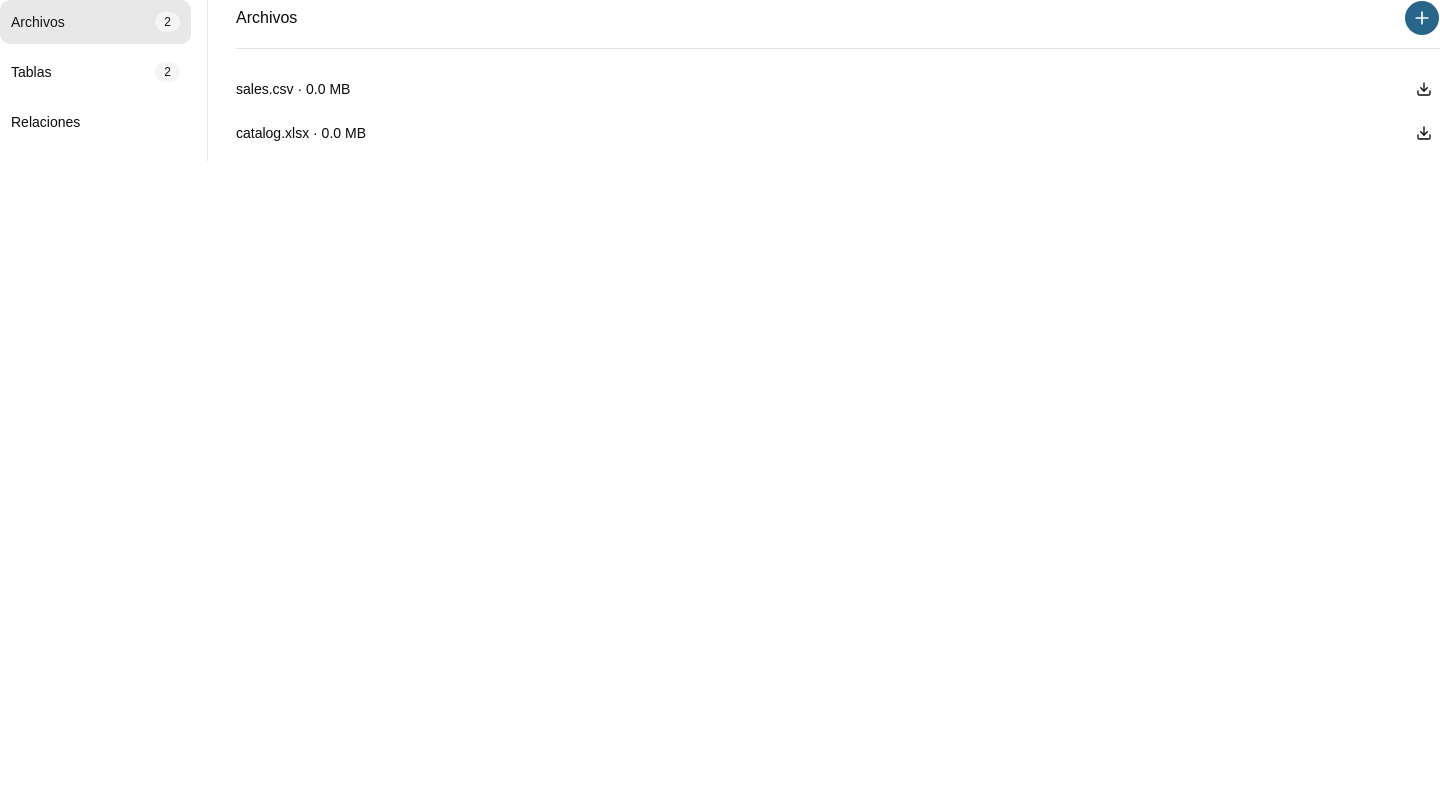
opens the clicked table with actual columns and rows without reopening the map or changing context
Click the button "Tablas 2" at [96, 72], box 0,50 -> 191,94
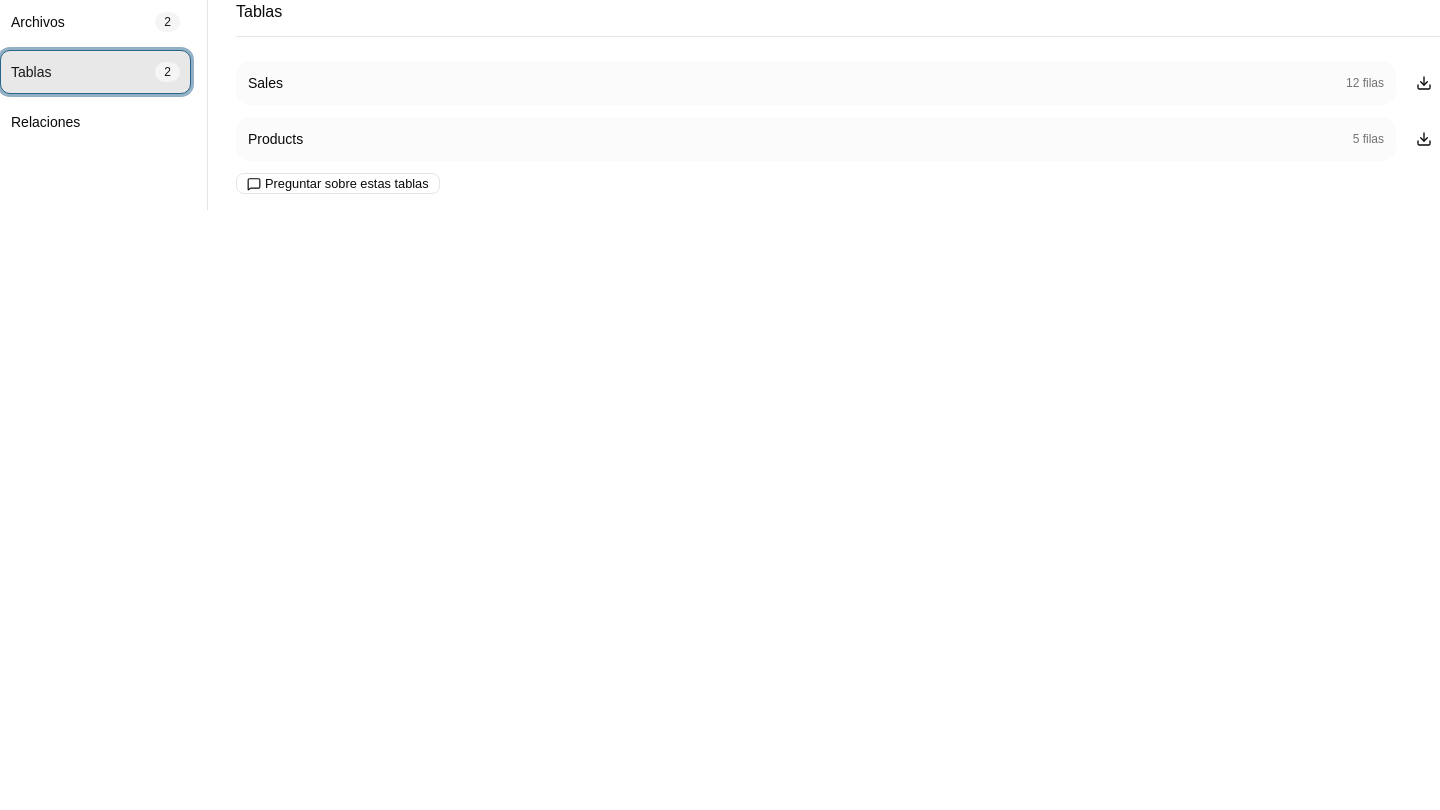
Click the button with aria-label "Ver tabla Products" at [276, 139], box 236,117 -> 1396,161
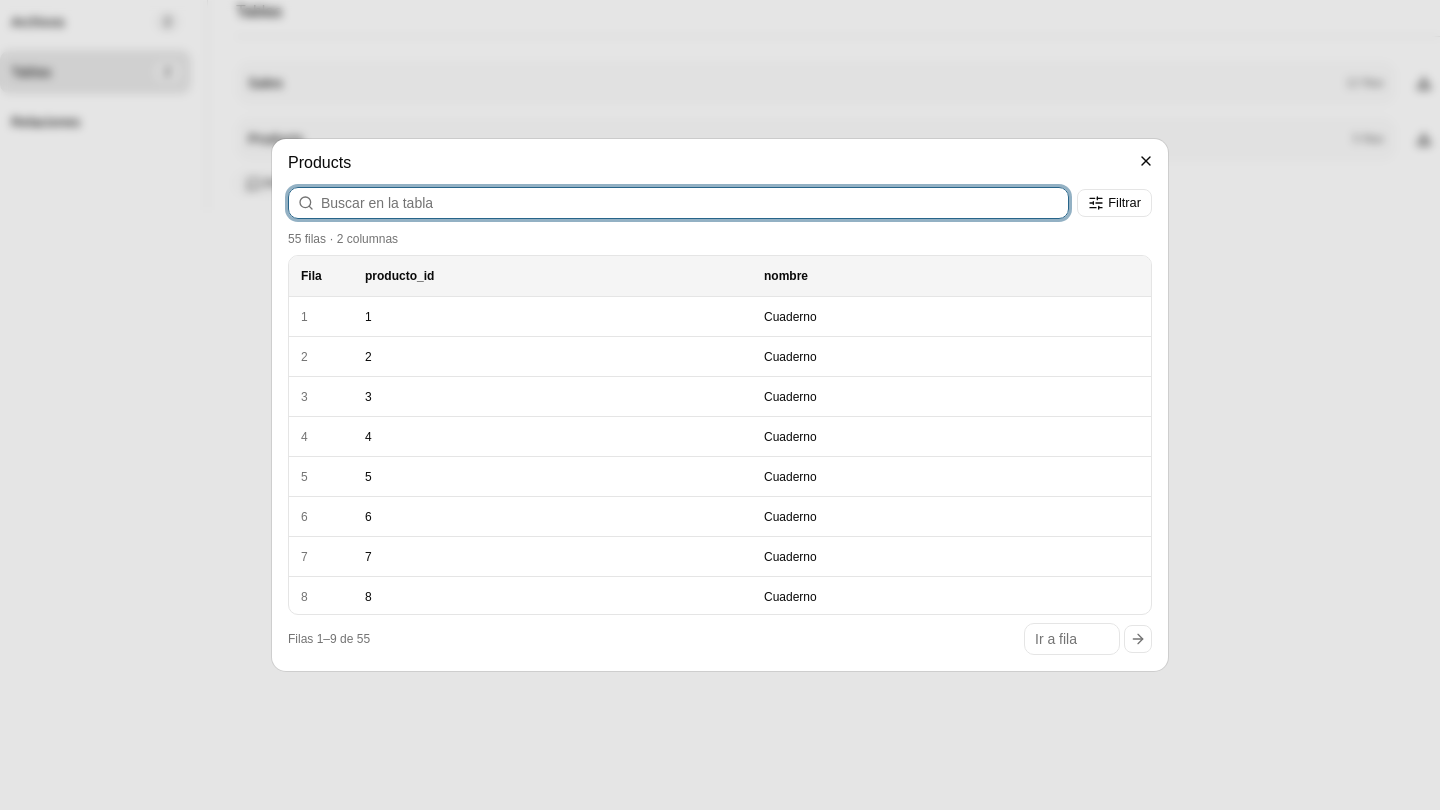
Expected: the column heading "nombre" is shown, 752,256 -> 1151,296
Expected: the 1st text "Cuaderno" is shown, 764,310 -> 817,324
Type "51" into the number field labelled "Ir a fila" at [1072, 639], box 1024,623 -> 1120,655
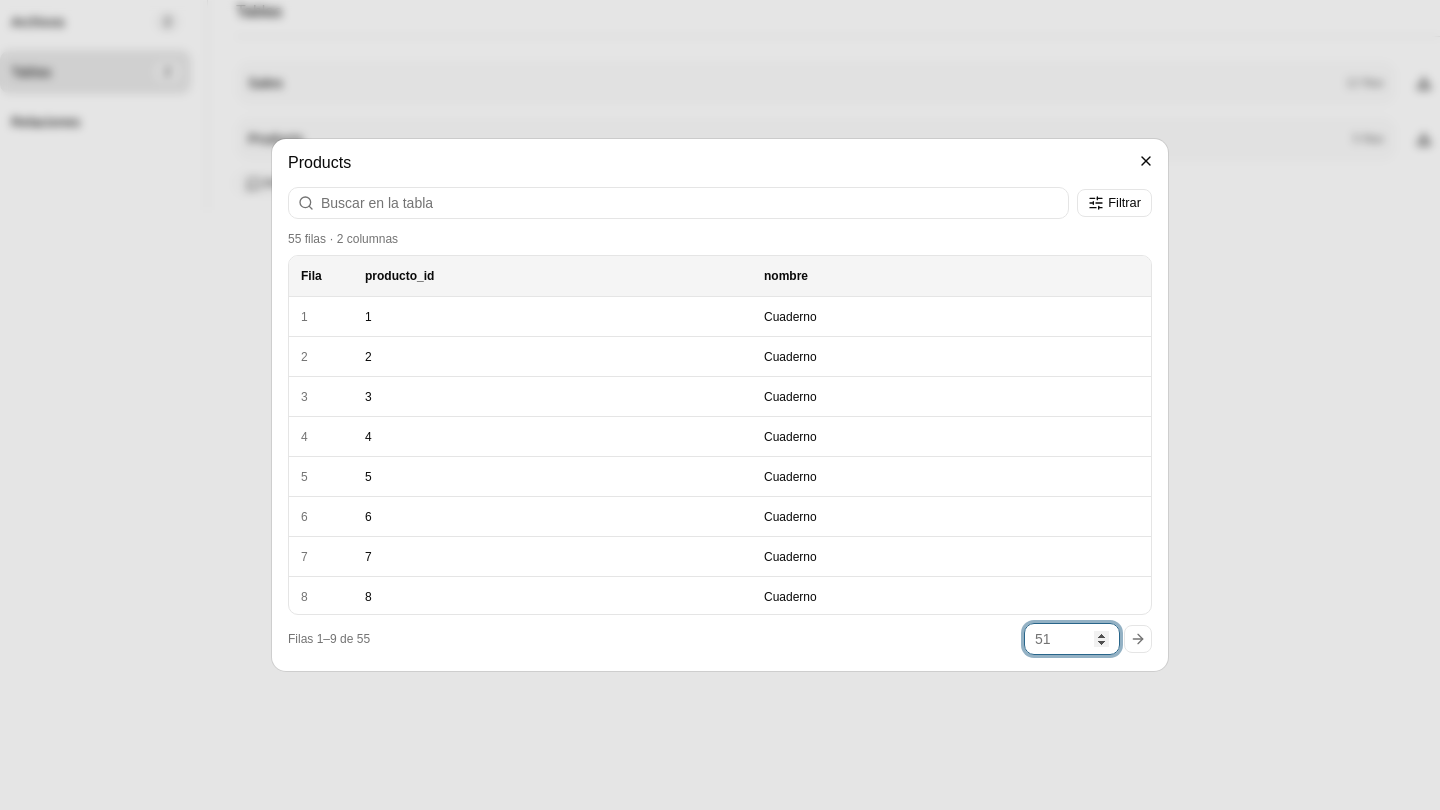
Click the button named "Ir a fila" at [1138, 639], box 1124,625 -> 1152,653
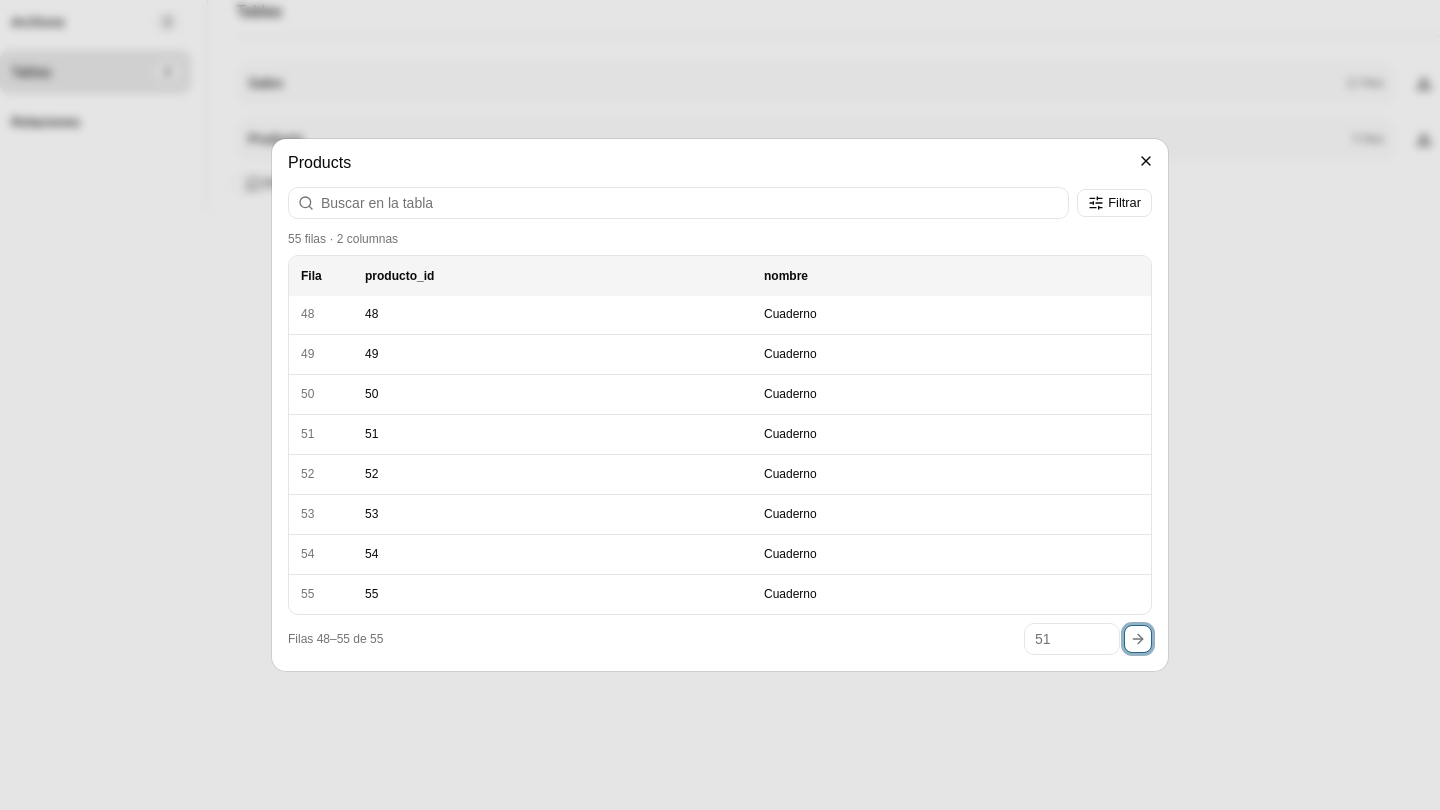
Expected: the cell "51" is shown, 353,414 -> 752,454
Press Escape
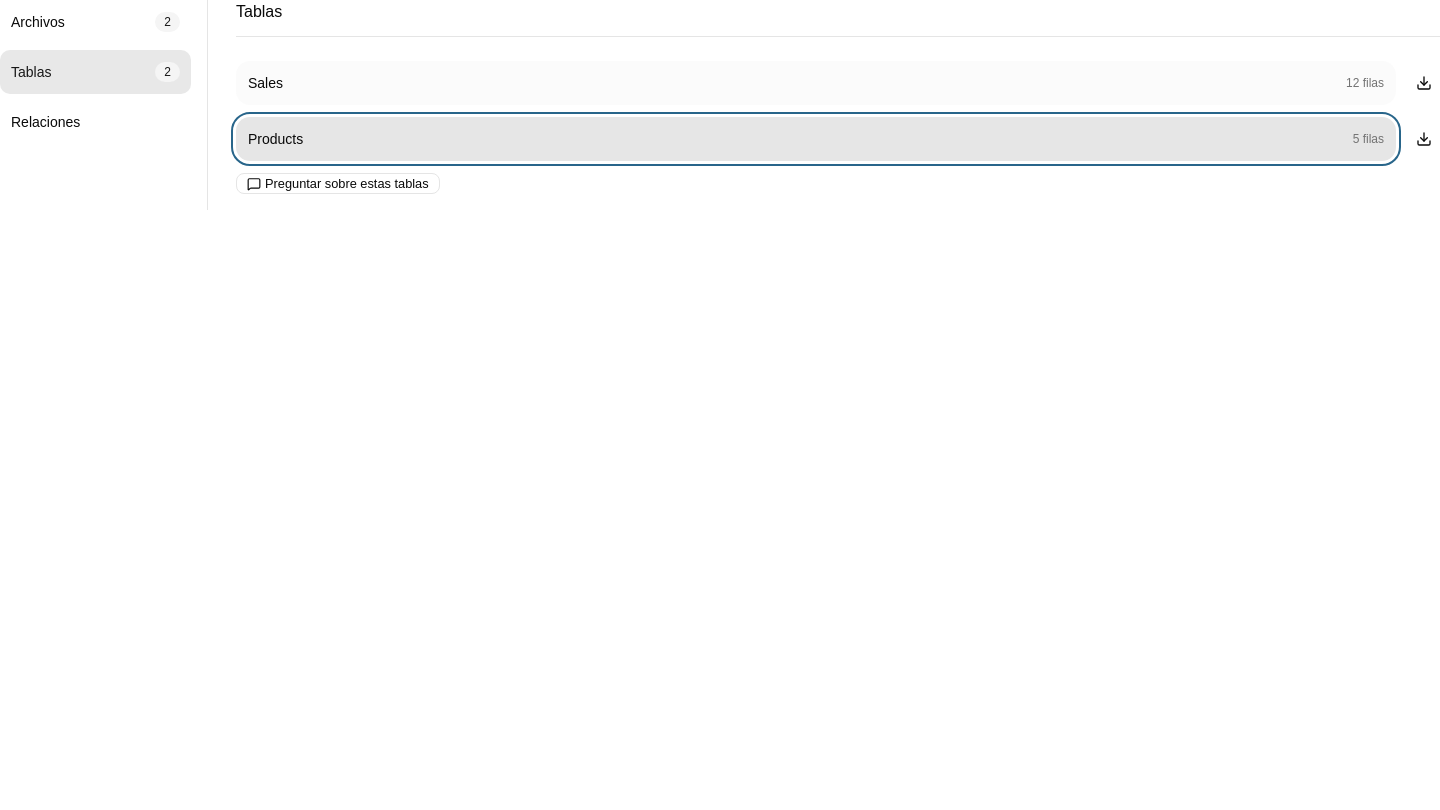
Expected: the dialog is gone
